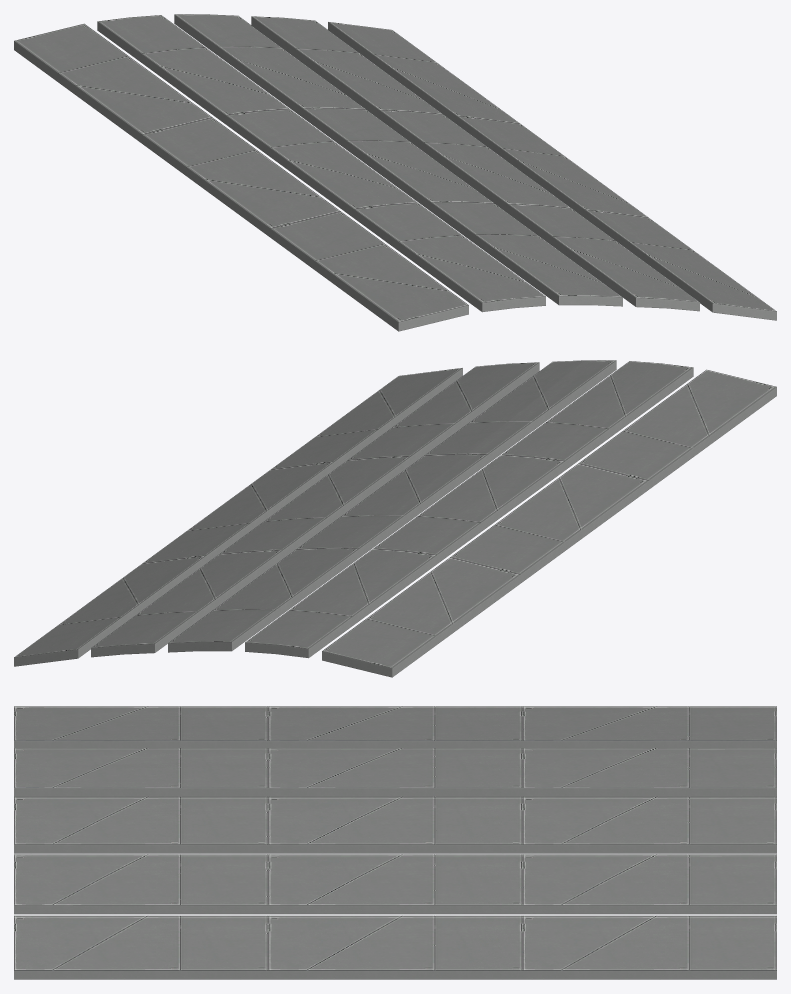
The model's file is Cit_MarketShield.FBX.
3 views of the same model, one above another, from view 1: azimuth 30°, elevation 25°; view 2: azimuth 150°, elevation 25°; view 3: azimuth 270°, elevation 25° (orthographic).
Parts seen in each view (by area): view 1: Cit_MarketShield; view 2: Cit_MarketShield; view 3: Cit_MarketShield.
Boxes of the visible parts, box(x1,y1,x2,y2) form: Cit_MarketShield: box(14, 14, 776, 331); Cit_MarketShield: box(14, 360, 776, 677); Cit_MarketShield: box(14, 706, 776, 979).
Size of the model in its own units: 8.03 by 1.84 by 14.15.
